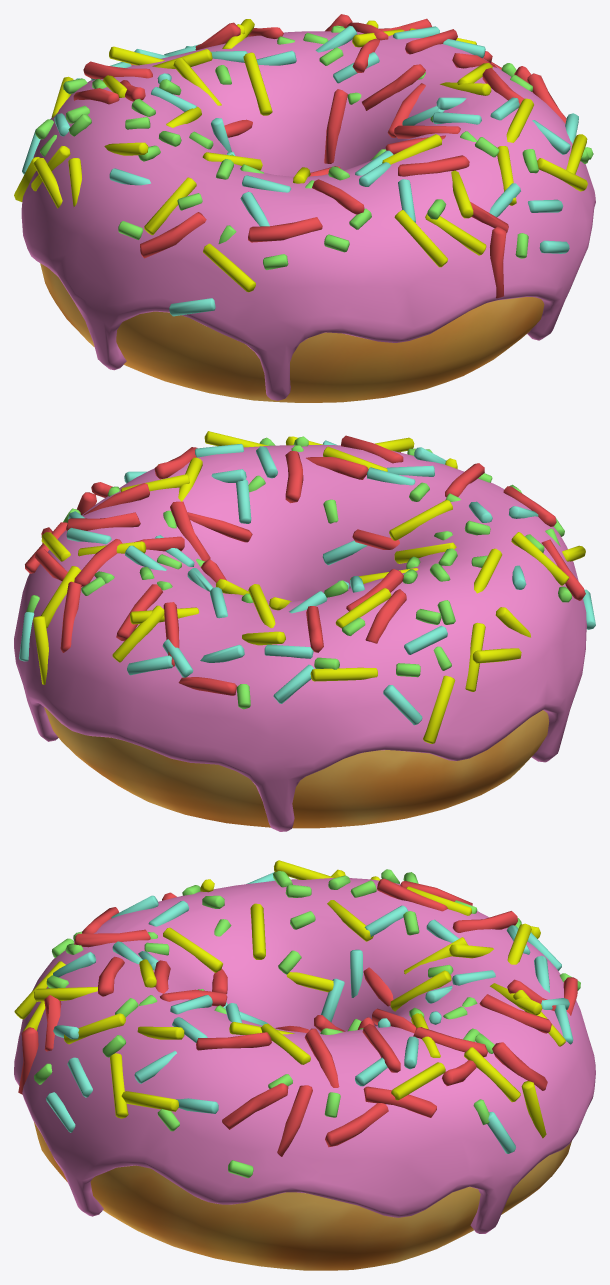
Rendered from game_ready_donut.glb.
3 views of the same model, one above another, from view 1: azimuth 30°, elevation 25°; view 2: azimuth 150°, elevation 25°; view 3: azimuth 270°, elevation 25° (orthographic).
Parts seen in each view (by area): view 1: Donut1; view 2: Donut1; view 3: Donut1.
Boxes of the visible parts, bbox=[...] form: Donut1: bbox=[14, 14, 595, 402]; Donut1: bbox=[14, 431, 595, 831]; Donut1: bbox=[14, 860, 595, 1270].
Size of the model in its own units: 0.1229 by 0.0571 by 0.1234.
6 materials, 1 textured.
